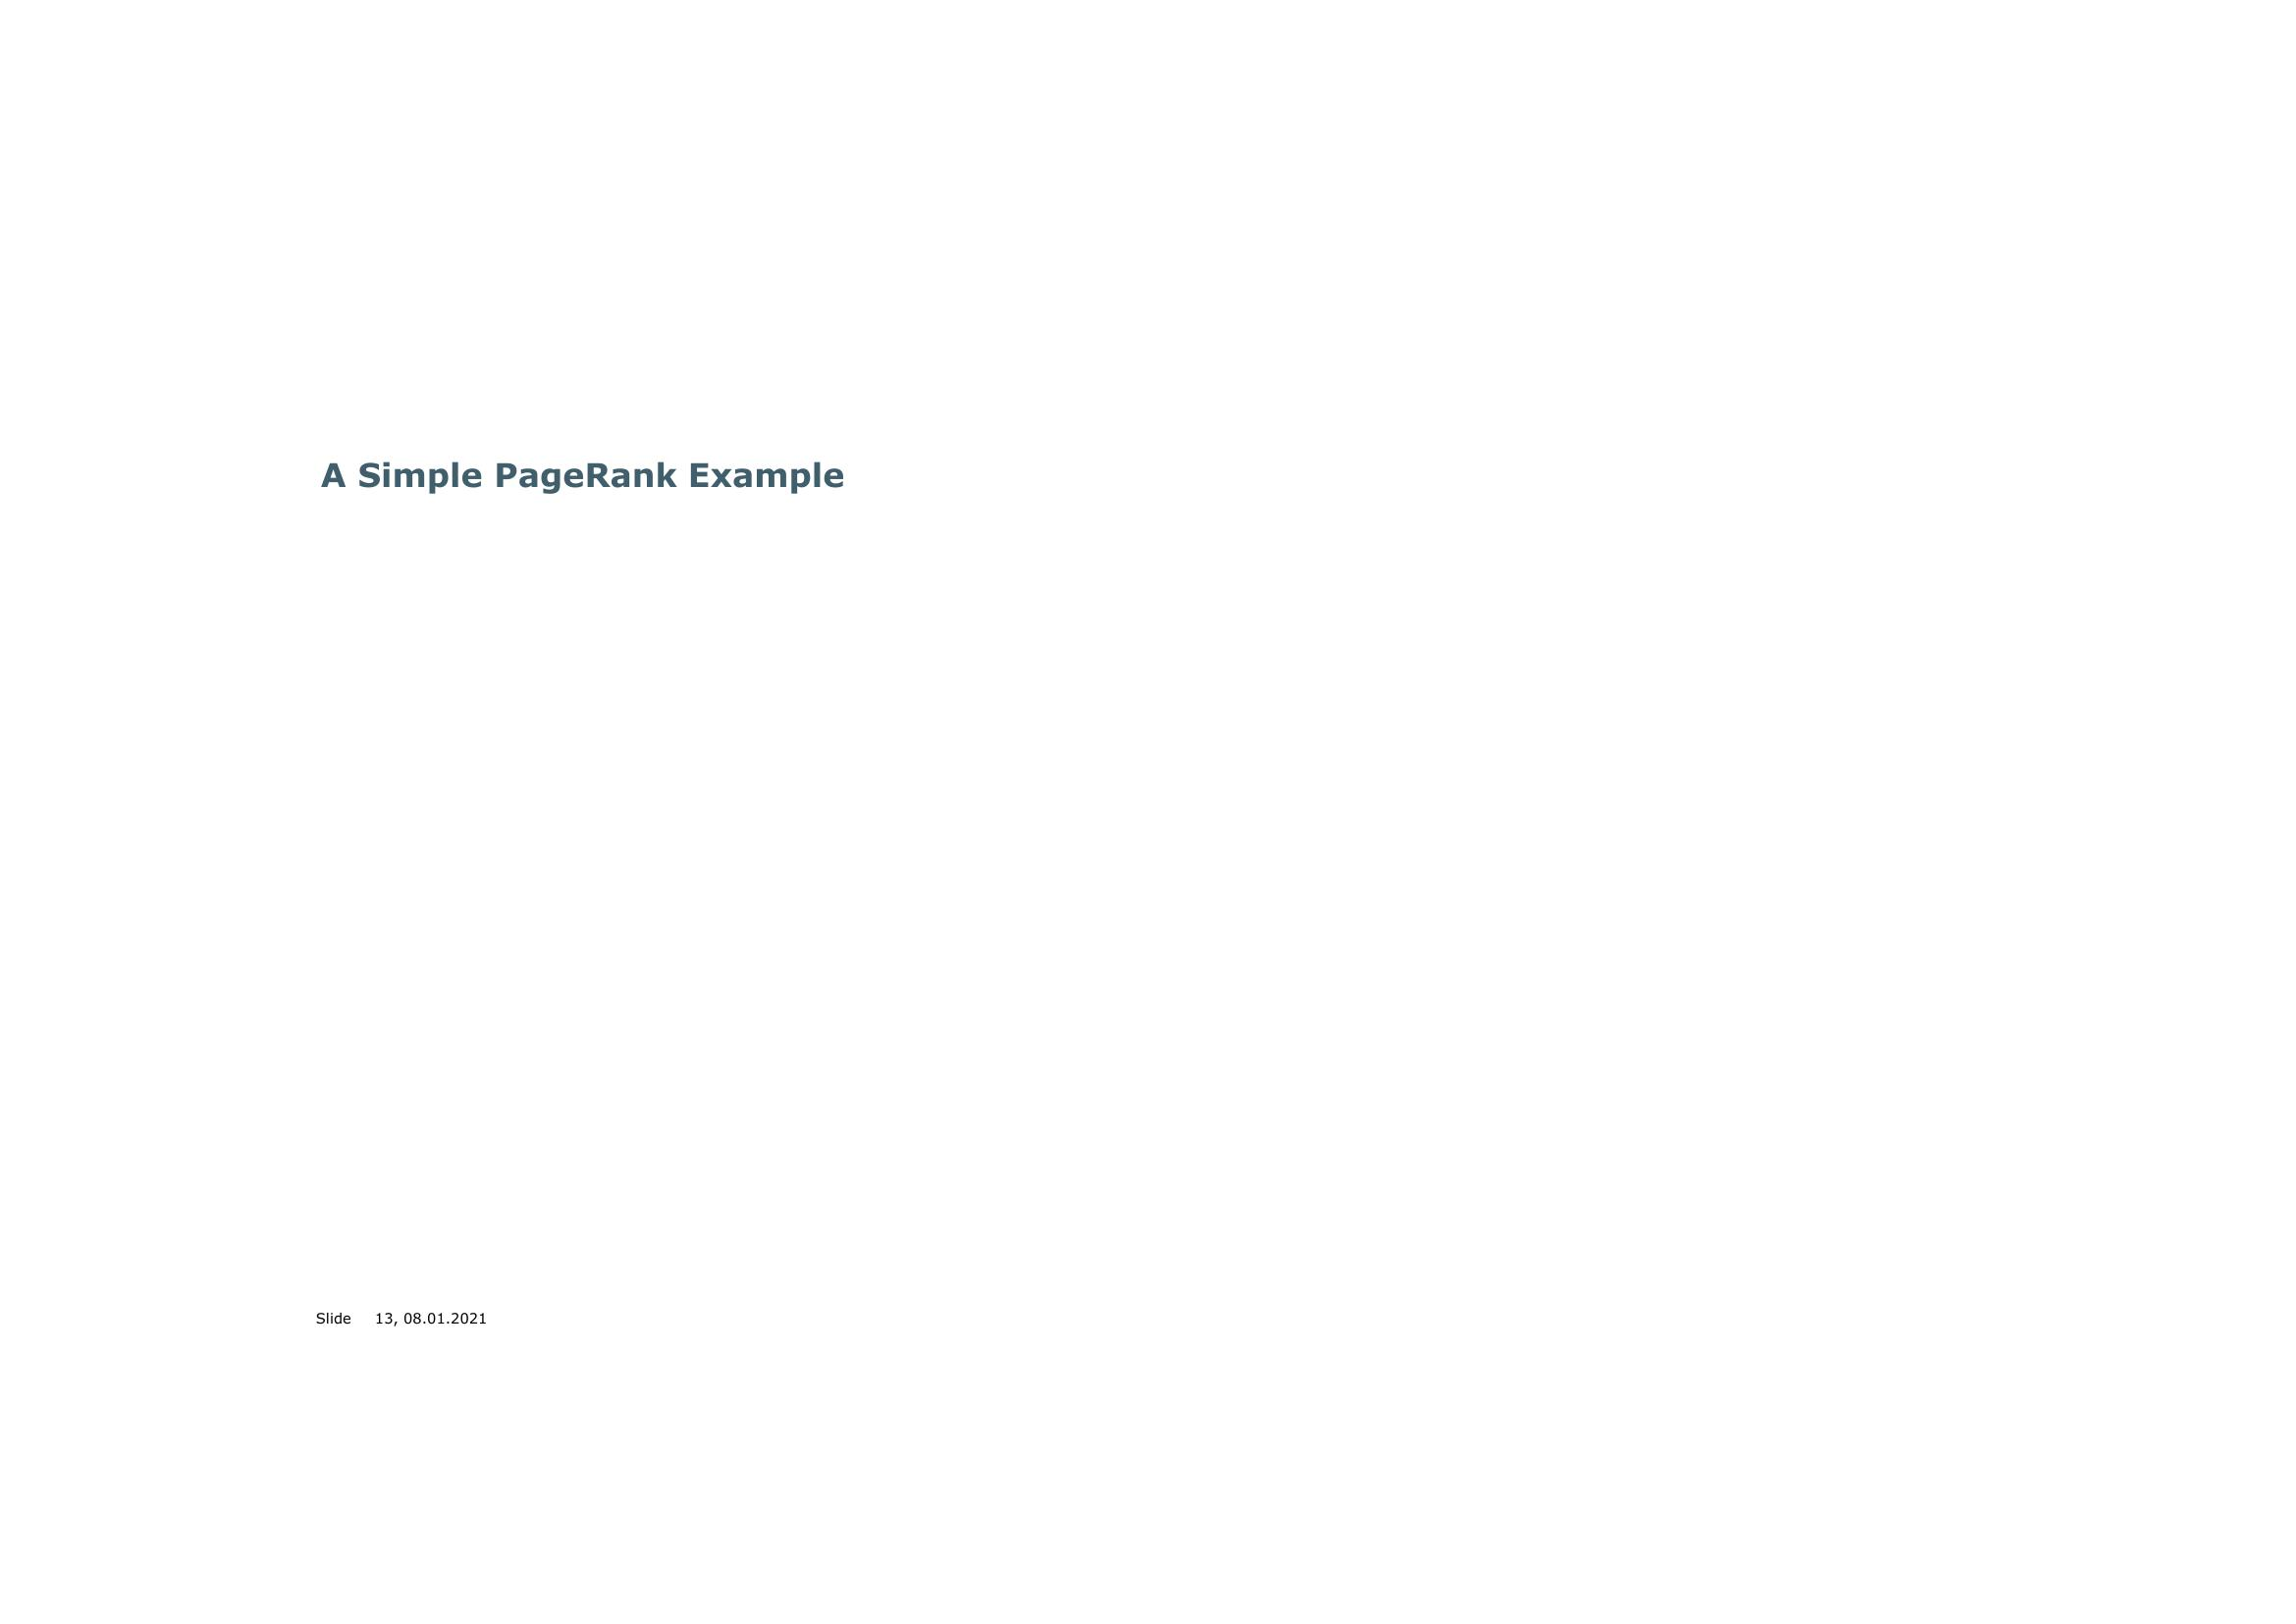Title: (278, 445, 856, 511)
